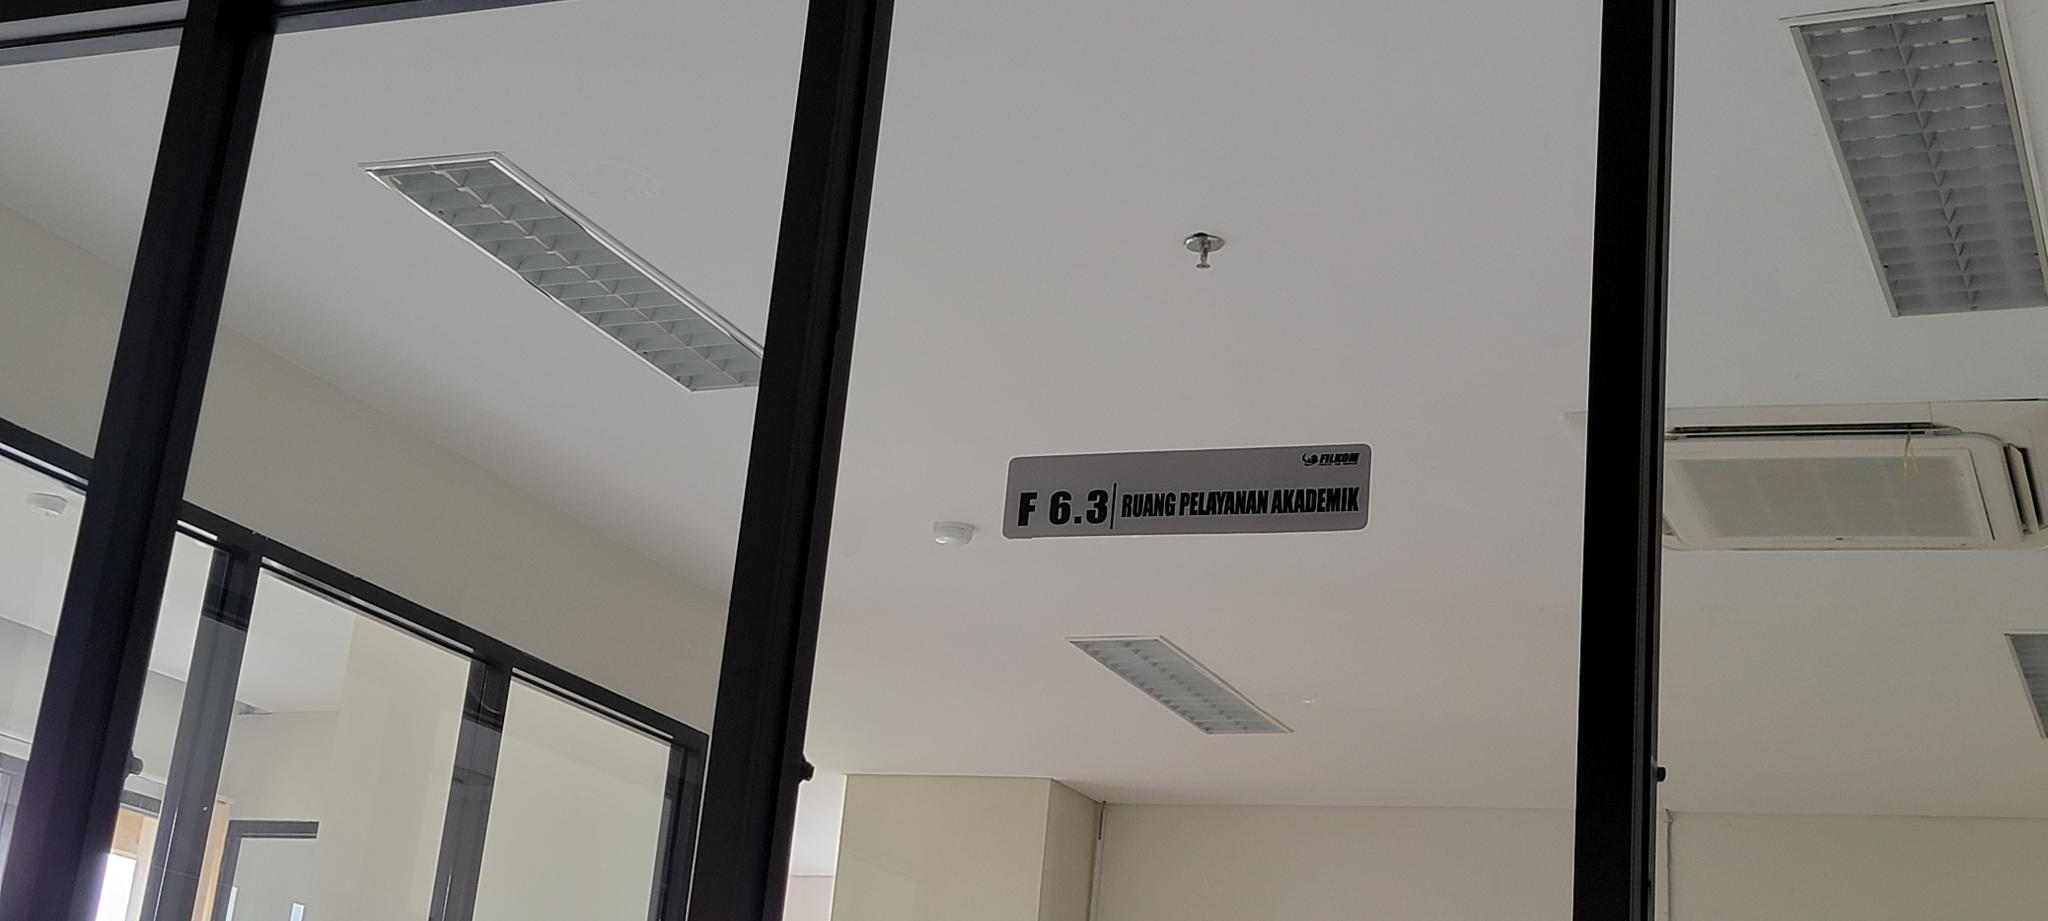plate: (1002, 443, 1373, 540)
